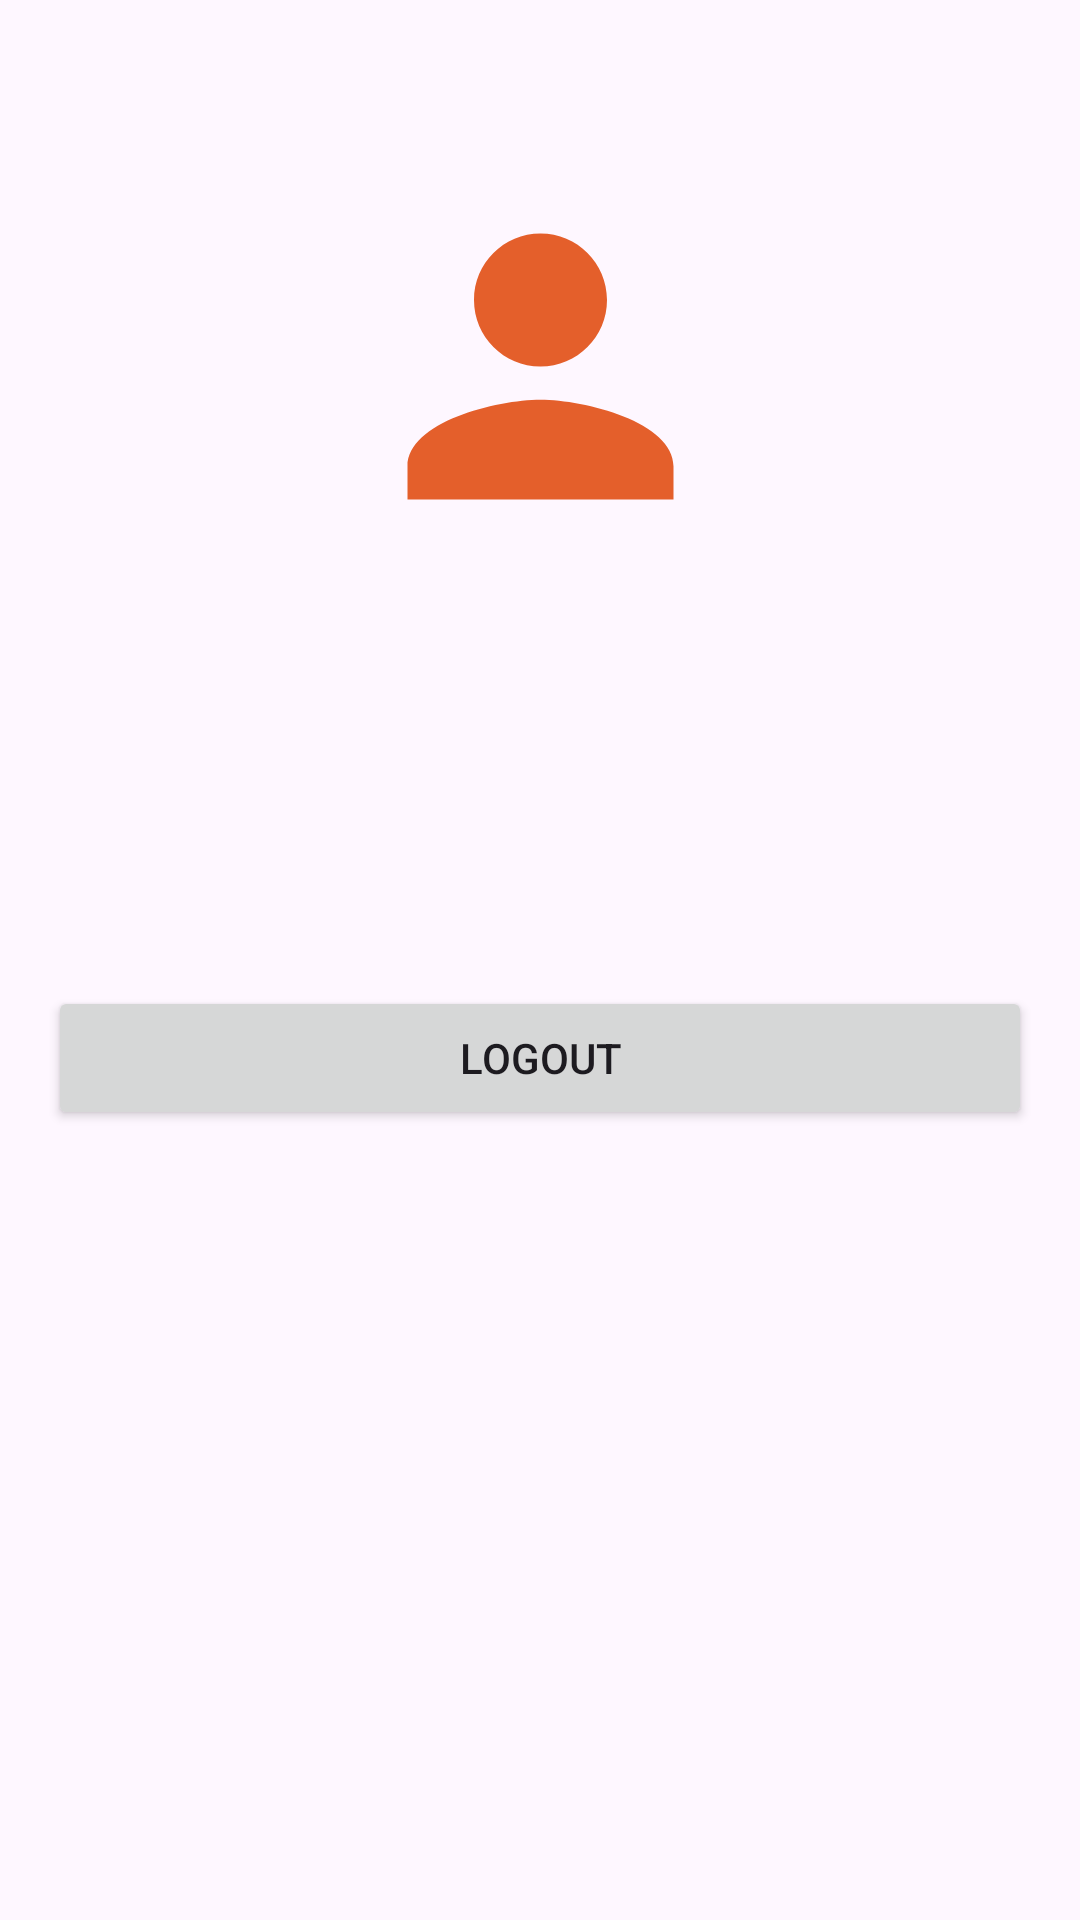

Screen size 1080 × 1920. Icon name, then its center in pixels as point (x, y):
profile: point (540, 366)
